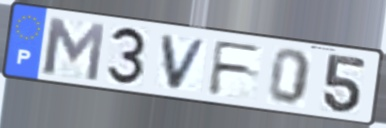0: (268, 46, 314, 109)
3: (102, 24, 151, 88)
5: (321, 51, 369, 116)
F: (206, 38, 266, 97)
M: (41, 14, 108, 84)
V: (159, 33, 212, 92)
